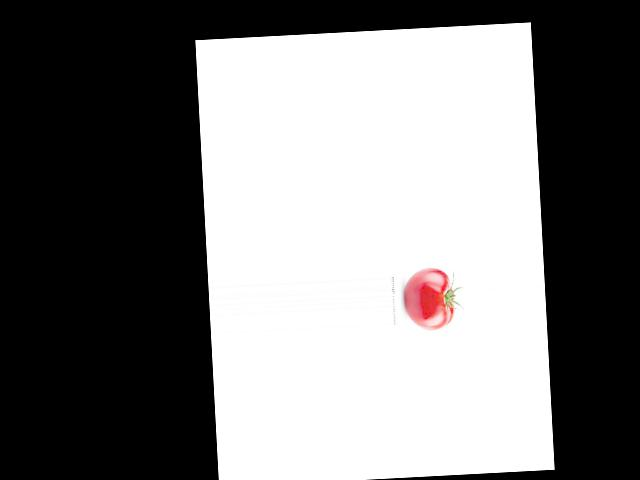tomato: (403, 266, 454, 331)
